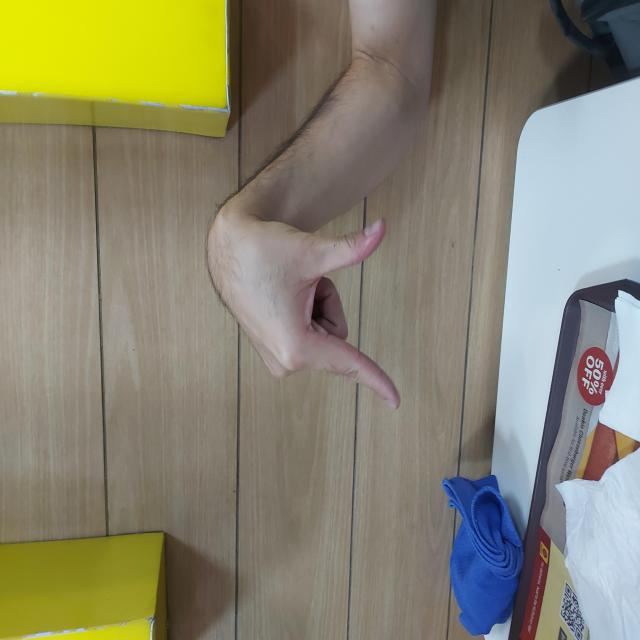Q: (229, 204, 426, 406)
